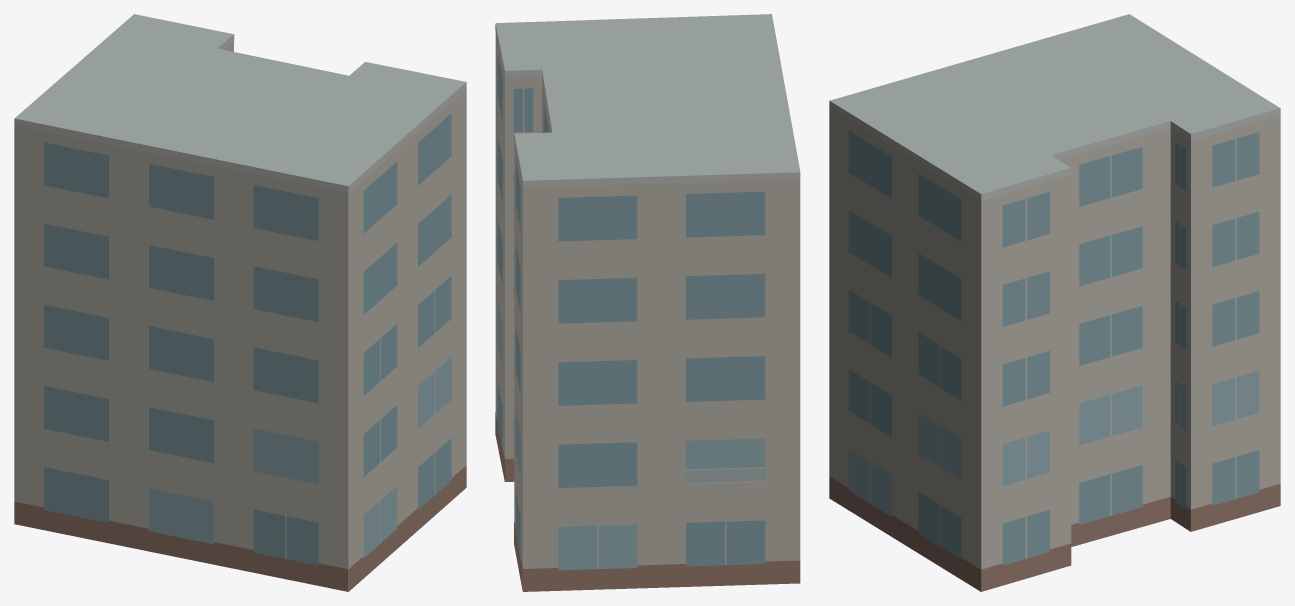
File: survey-upis-32977913.glb
3 renders of one model, left to right at view 1: azimuth 30°, elevation 25°; view 2: azimuth 150°, elevation 25°; view 3: azimuth 270°, elevation 25°, orthographic. The views are drawn at different scales.
Visible parts, largest first — view 1: survey-upis-32977913.tmp; view 2: survey-upis-32977913.tmp; view 3: survey-upis-32977913.tmp.
Part boxes in pixels (x1,y1,x2,y2): survey-upis-32977913.tmp: (14, 14, 466, 591); survey-upis-32977913.tmp: (495, 14, 800, 591); survey-upis-32977913.tmp: (829, 14, 1280, 591).
Bounding box in the file's own units: 14 × 14.4 × 14.81.
